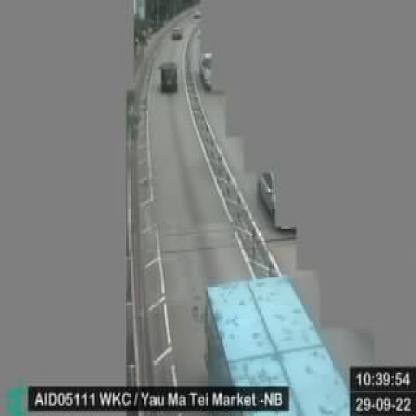Car: (153, 59, 182, 99), (165, 21, 183, 48)
Truck: (182, 272, 363, 414)
